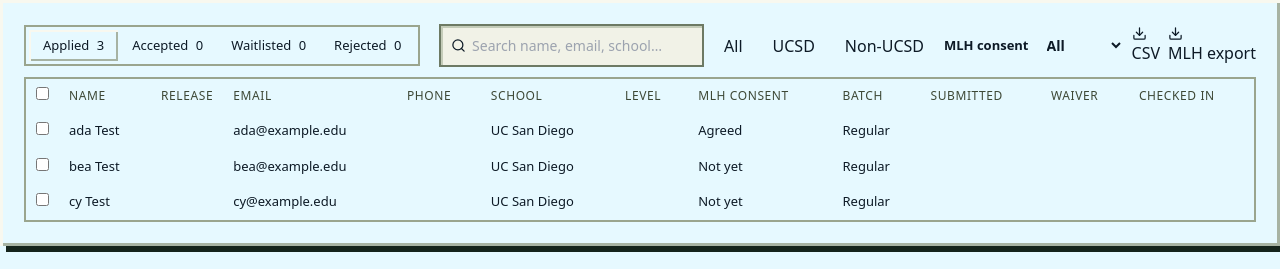
the hackers table › MLH on: a column saying who agreed, and a filter
Select "Agreed" in the dropdown labelled "MLH consent". click: (1079, 46)
box: [1034,28,1124,63]
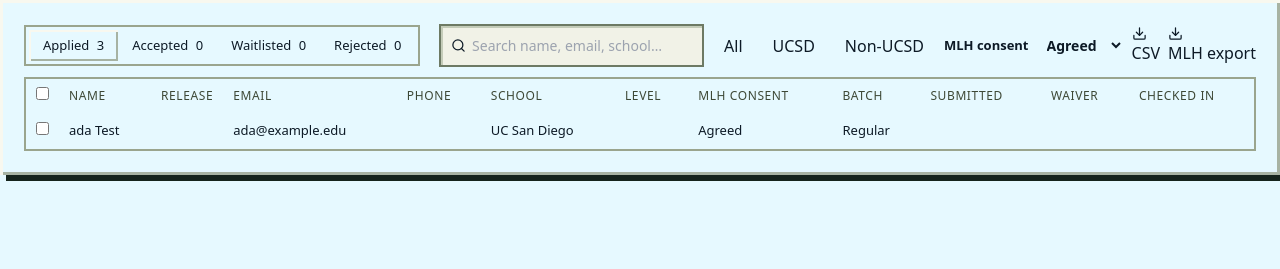
Expected: the text "ada Test" is shown, [59,113,151,148]
Now the text "bea" is gone
Select "Not yet" in the dropdown labelled "MLH consent". click: (1079, 46)
box: [1034,28,1124,63]
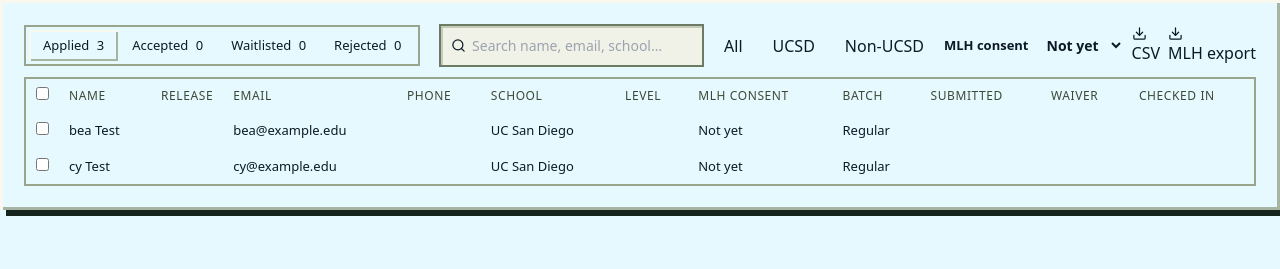
Now the text "ada Test" is gone
Now the text "bea Test" is shown, box [59,113,151,148]
Now the text "cy Test" is shown, box [59,148,151,184]
